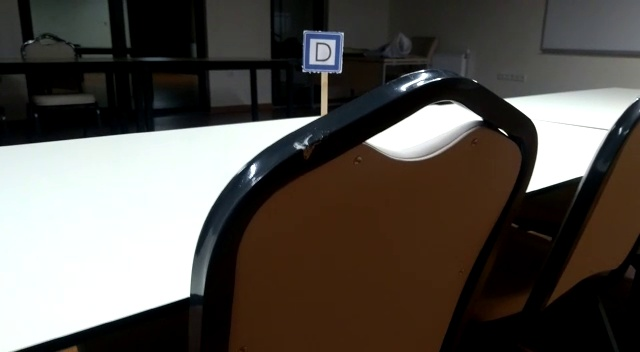durak: (303, 31, 344, 73)
